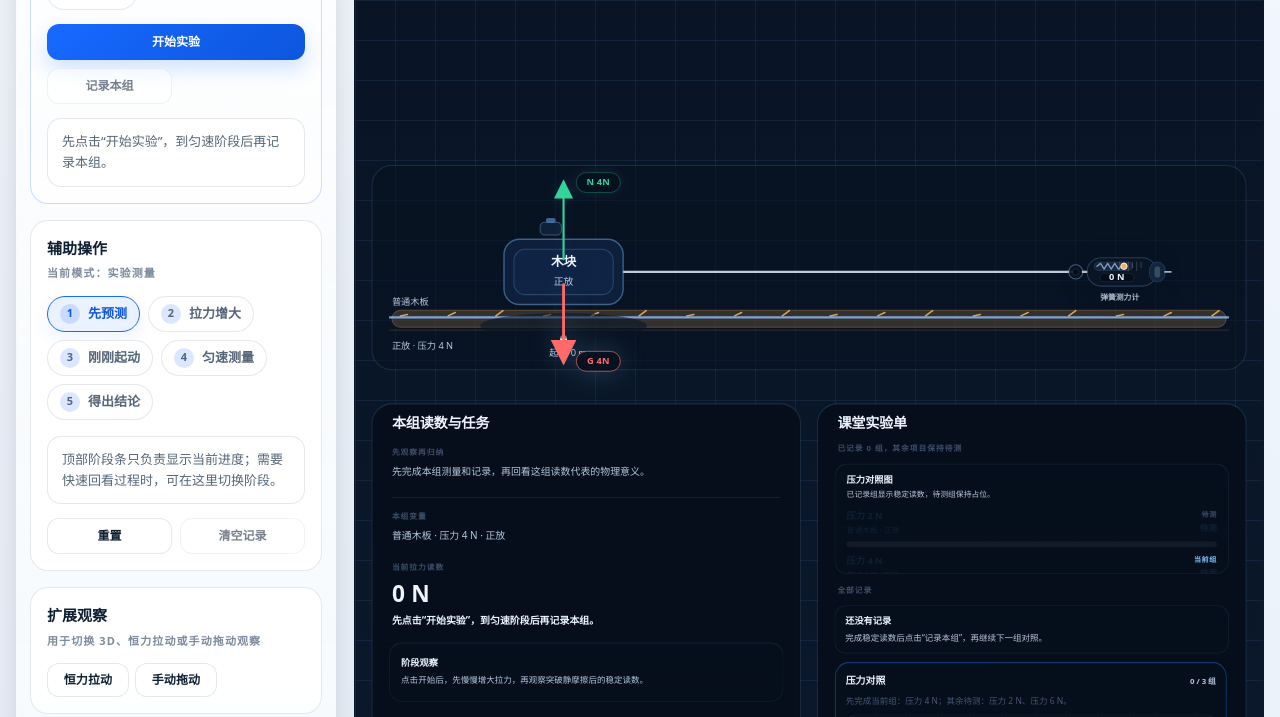
Test case: BasicForceLab classroom entry › invalidates the current stable reading after changing the study parameter
The width and height of the screenshot is (1280, 717).
(page scrolled)
Click the button with aria-label "阶段 4：匀速测量" at (214, 358), box [161,340,267,376]
(page scrolled)
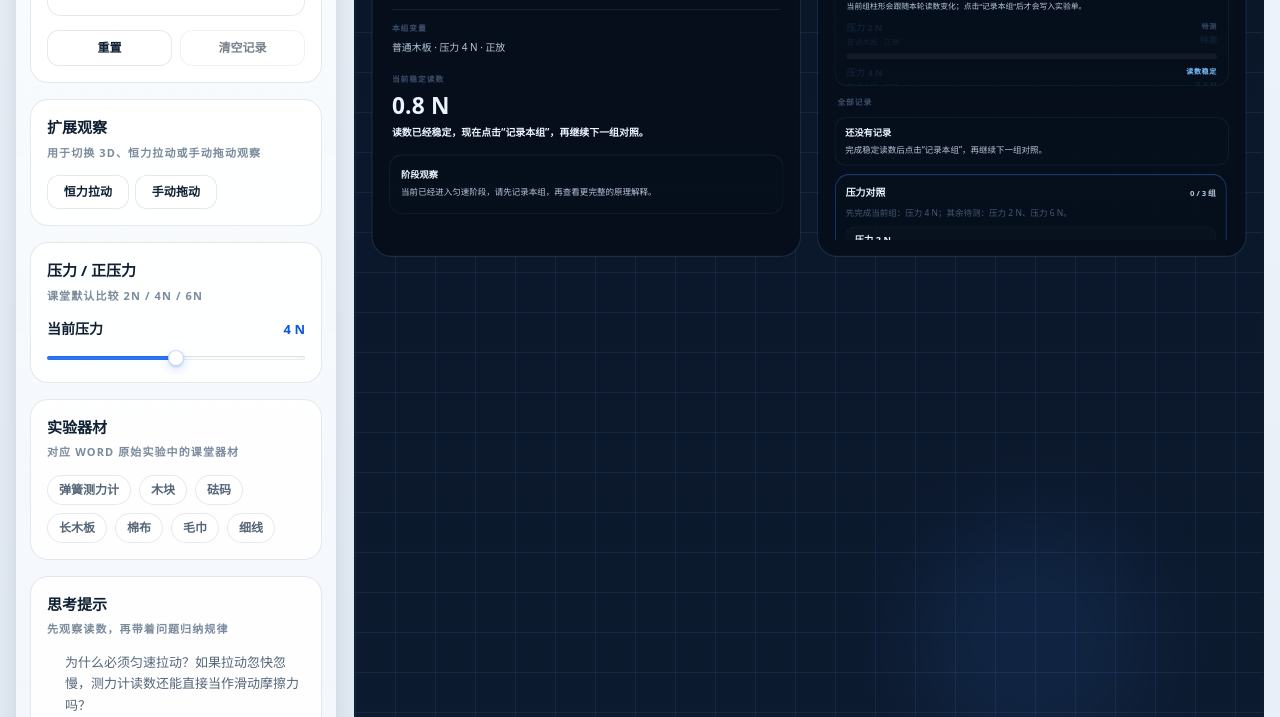
Set the slider labelled "当前压力" to "6" at (297, 358), box [47,350,305,366]
(page scrolled)
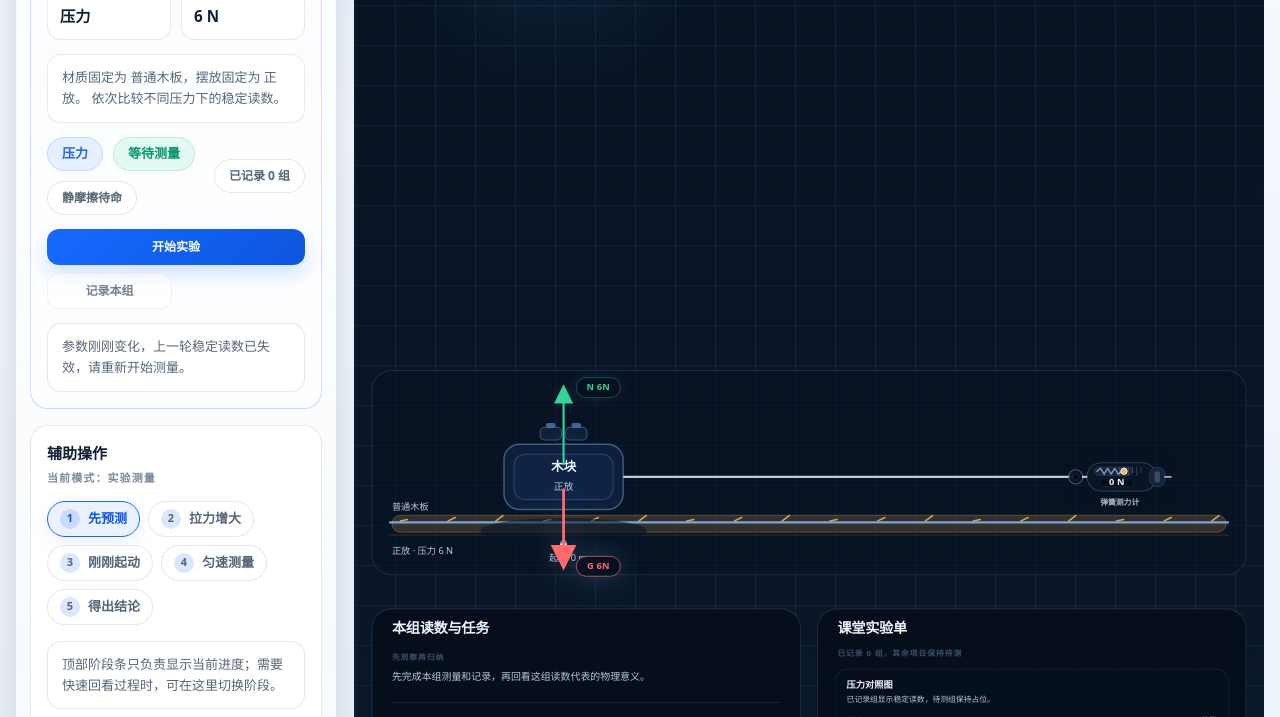
Result: the button "记录本组" is disabled at [47,273,172,309]
Result: the text "参数刚刚变化，上一轮稳定读数已失效，请重新开始测量。" is shown at [47,323,305,392]
